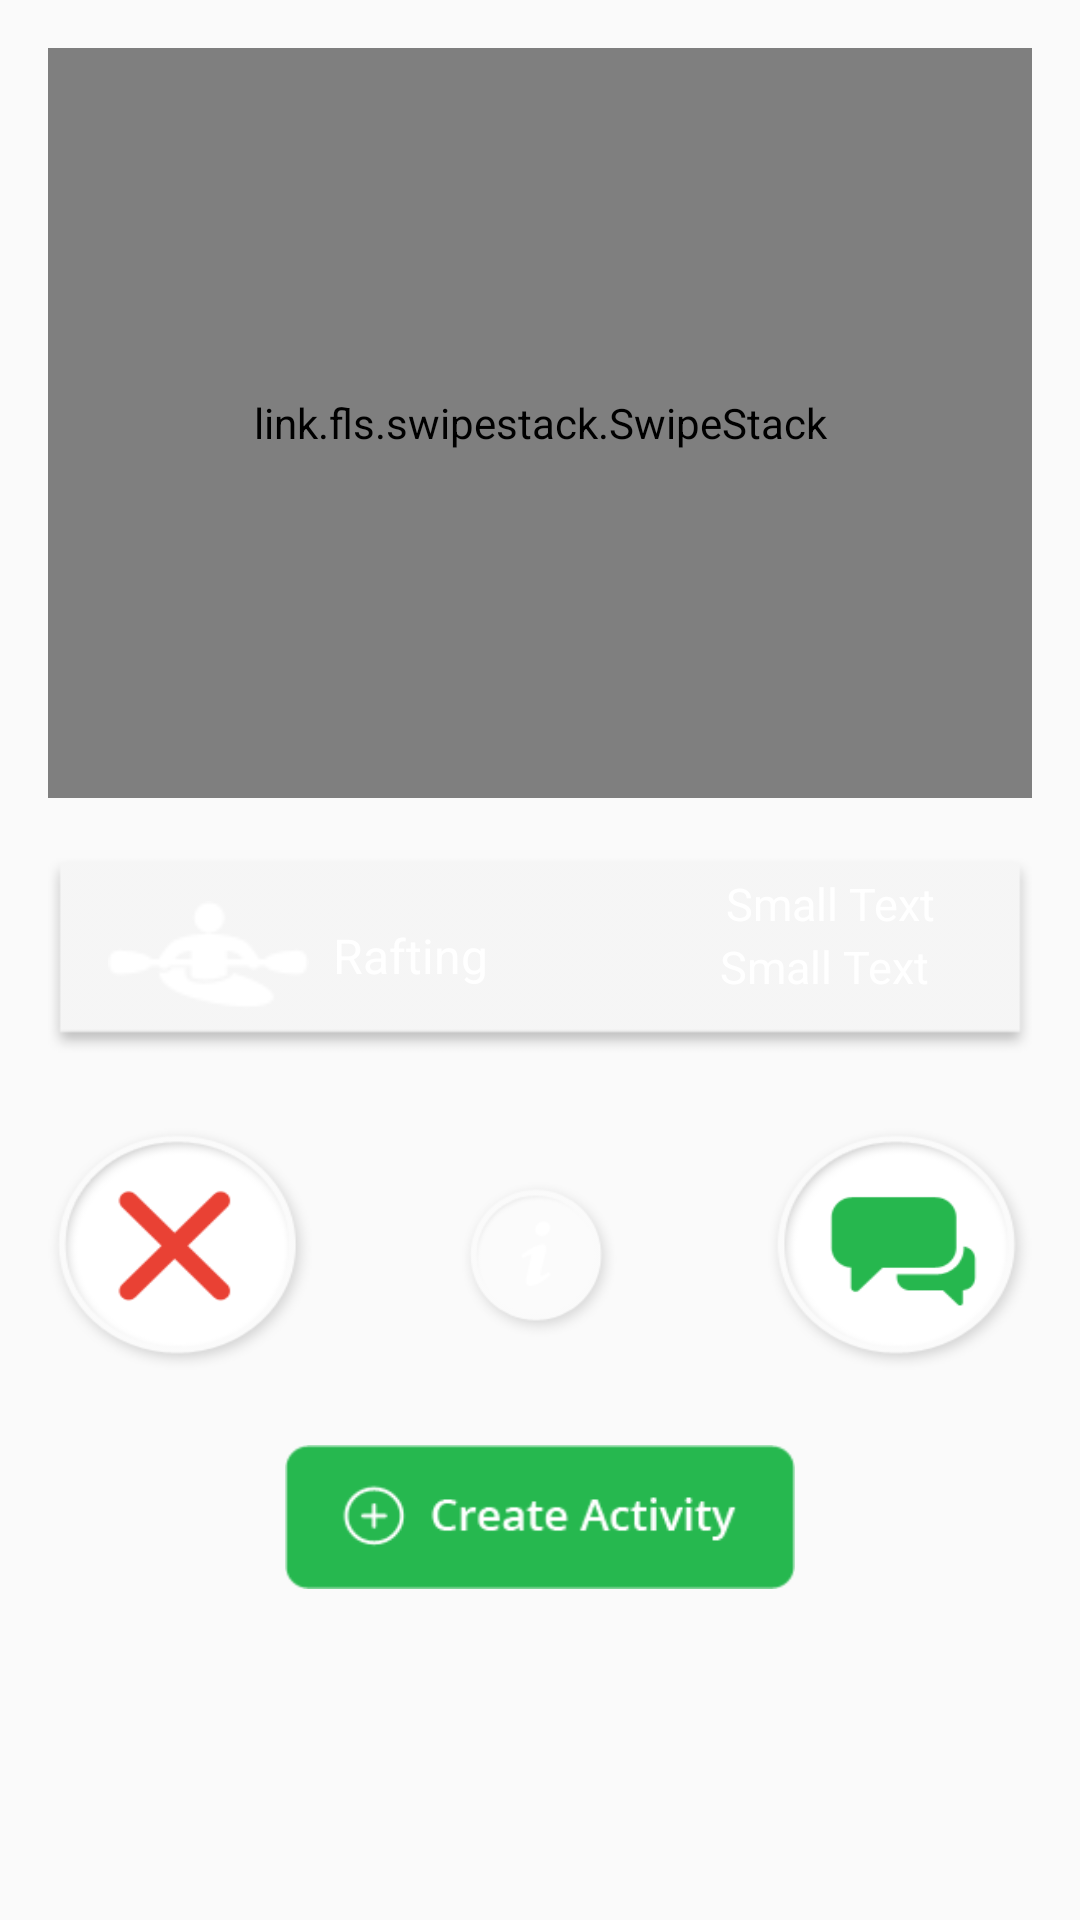

Icon click points for this 1080 x 1920 phone screenshot, format (x=x, y=y):
dislike: (x=182, y=1249)
message: (x=902, y=1249)
